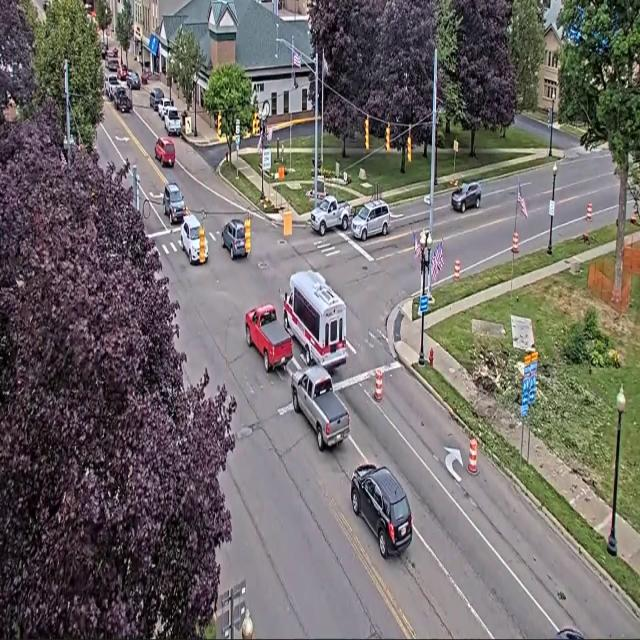car: (351, 464, 412, 558), (351, 200, 390, 241), (221, 219, 247, 259), (181, 215, 201, 264), (451, 182, 481, 213), (163, 184, 185, 223), (155, 137, 175, 167), (164, 107, 181, 135), (105, 74, 121, 100), (149, 87, 165, 111), (555, 627, 585, 639), (157, 97, 173, 119), (126, 71, 140, 89), (117, 64, 128, 81), (107, 58, 119, 72), (101, 43, 108, 59), (108, 47, 118, 57)
traffic signal: (244, 214, 251, 254), (199, 224, 205, 263), (252, 112, 259, 135), (385, 124, 390, 151), (365, 117, 369, 150), (407, 129, 411, 162), (217, 112, 221, 137), (548, 107, 552, 126)
truck: (291, 366, 349, 450), (245, 304, 292, 372), (310, 196, 351, 236), (114, 87, 132, 112)
